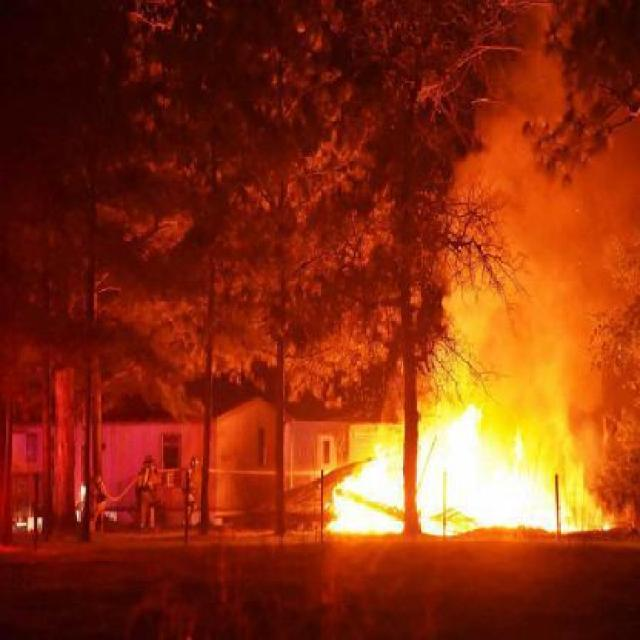Fire: (326, 425, 606, 541)
